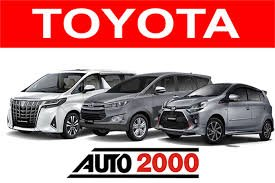mobil: (85, 73, 212, 133), (156, 81, 273, 138), (8, 67, 112, 129)
